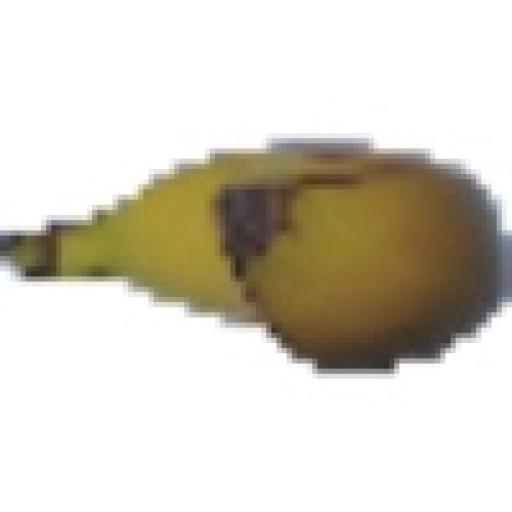banana: (0, 144, 501, 368), (226, 154, 501, 368)
